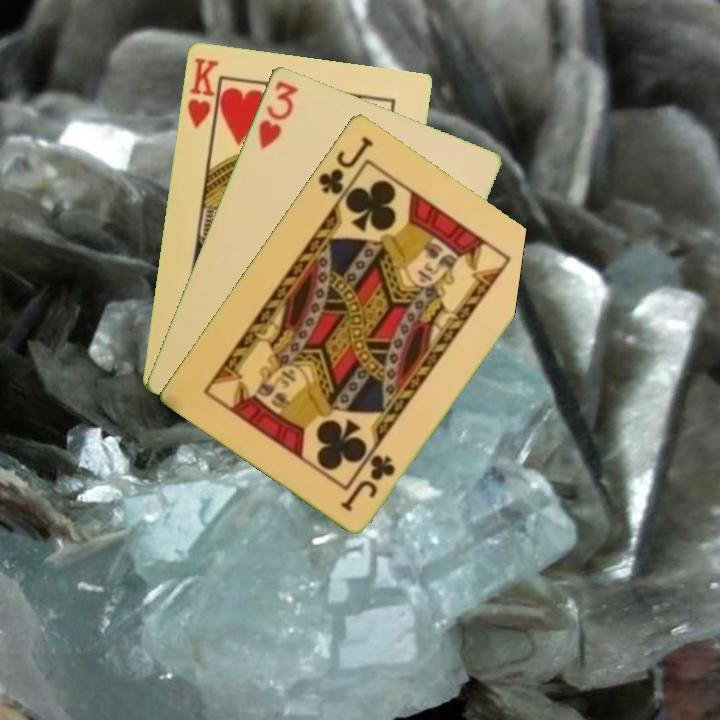3h: (254, 76, 301, 152)
Jc: (314, 132, 377, 197), (337, 450, 399, 514)
Kh: (183, 54, 222, 137)
